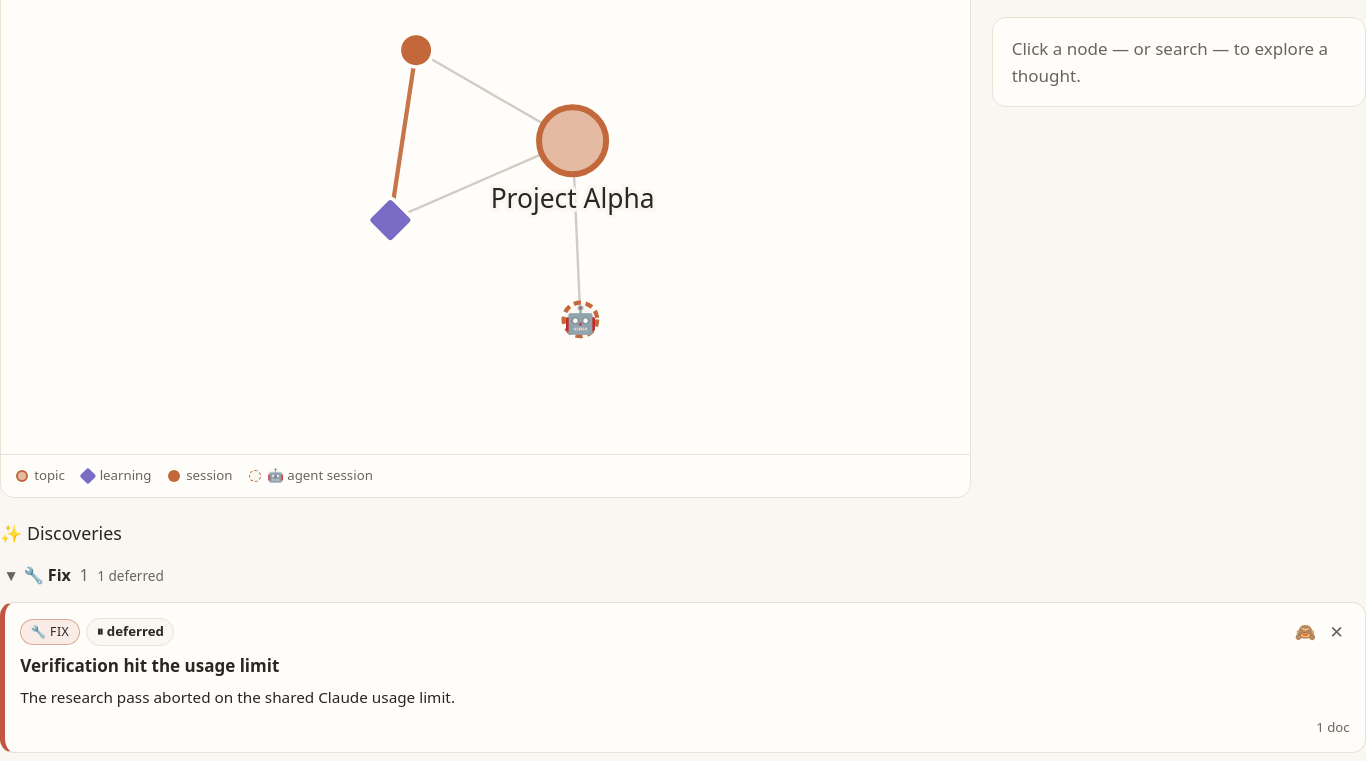
Test case: BrainView discoveries › shows a deferred badge and its distinct usage-limit copy
The width and height of the screenshot is (1366, 761).
(page scrolled)
Expected: the text with class "discovery-verdict" reads "⏸ deferred", [86, 618, 174, 646]
Expected: the button "▾ 🔧 fix 1 1 deferred" is shown, [0, 558, 1365, 594]
Click the button "Verification hit the usage limit": (150, 665) [20, 655, 1350, 678]
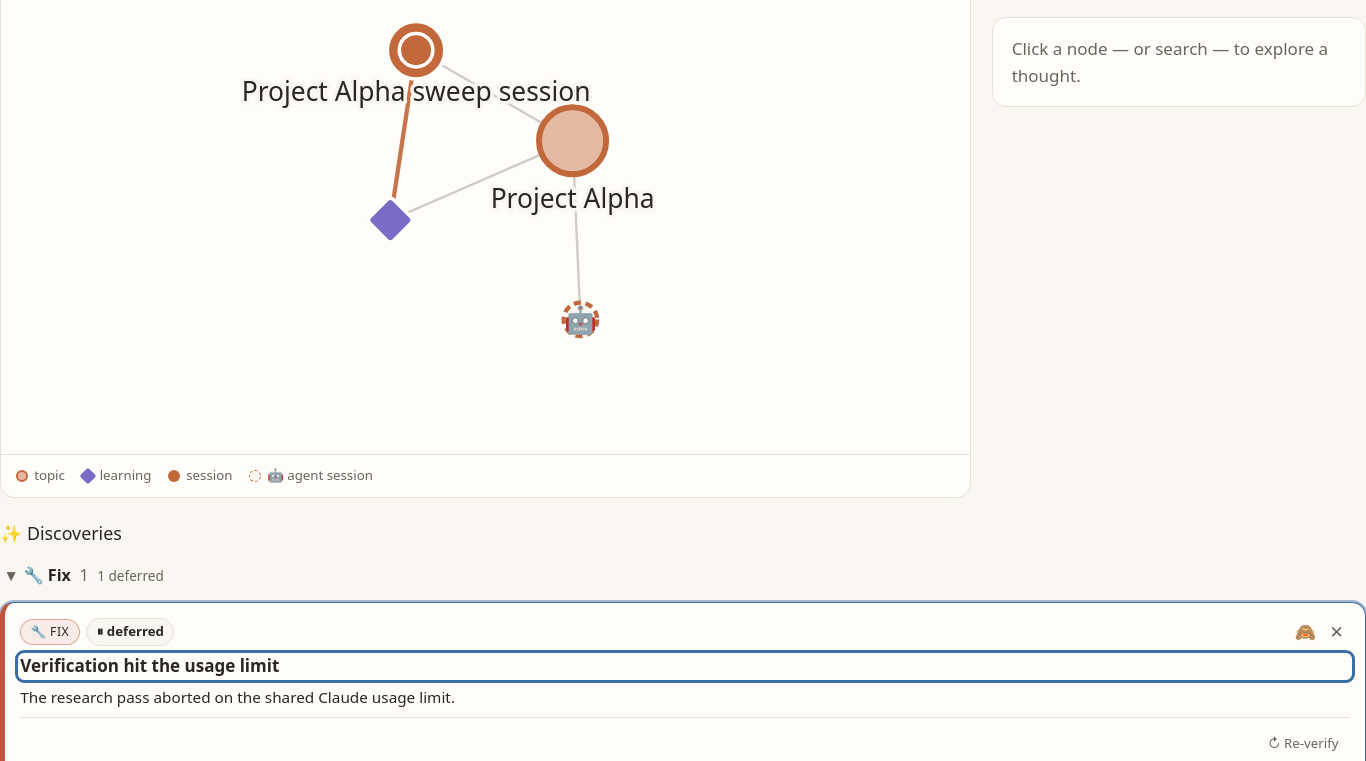
Expected: the button "↻ Re-verify" is enabled, [1257, 728, 1350, 759]
